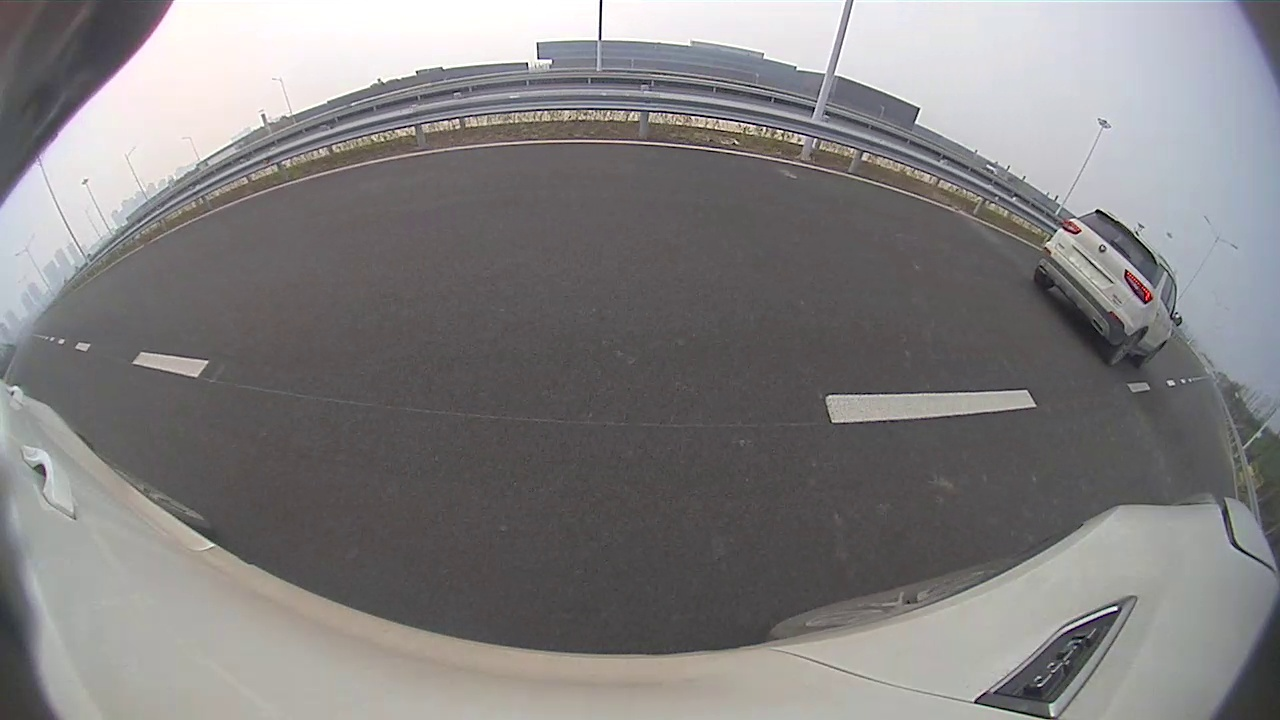car: (1034, 207, 1182, 368)
rear: (1110, 331, 1143, 368)
